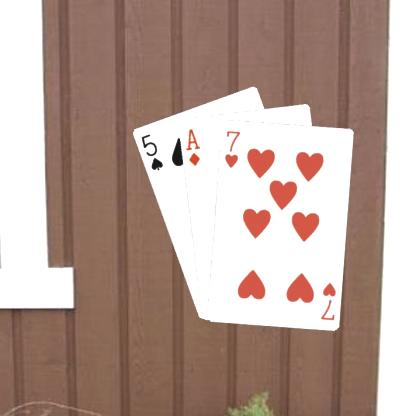5S: (138, 131, 164, 172)
7H: (221, 128, 242, 170), (318, 280, 337, 321)
AD: (183, 126, 201, 167)
